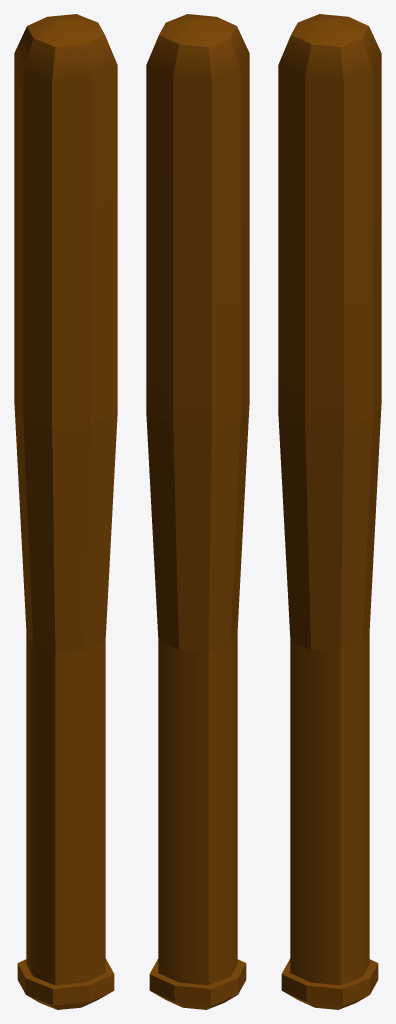
The model's file is BaseballBat_Blockout.fbx.
3 views of the same model, side by side, from view 1: azimuth 30°, elevation 25°; view 2: azimuth 150°, elevation 25°; view 3: azimuth 330°, elevation 25° (orthographic).
Visible parts, largest first — view 1: BaseballBat_Blockout; view 2: BaseballBat_Blockout; view 3: BaseballBat_Blockout.
Boxes of the visible parts, <box> form: BaseballBat_Blockout: <box>14,14,117,1009</box>; BaseballBat_Blockout: <box>146,14,249,1009</box>; BaseballBat_Blockout: <box>278,14,381,1009</box>.
Size of the model in its own units: 10.74 by 117 by 10.81.
